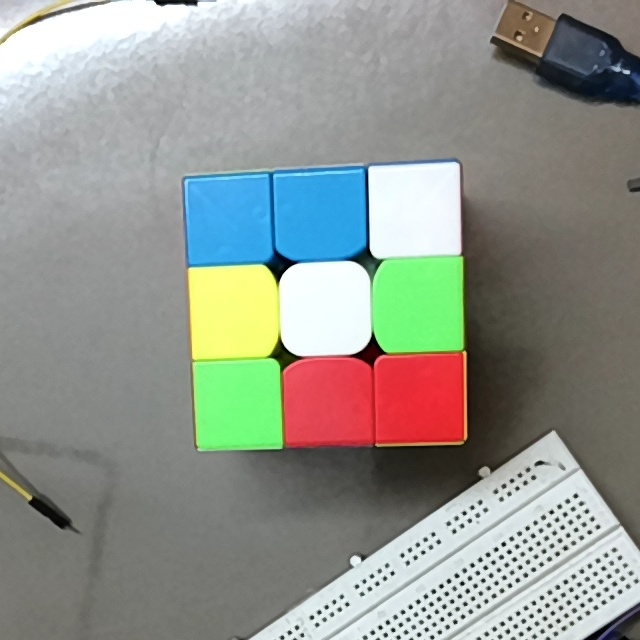tile: (374, 171, 457, 252), (197, 366, 278, 446), (379, 361, 462, 439), (190, 182, 267, 263), (279, 176, 361, 251), (385, 264, 459, 346), (294, 364, 368, 438), (194, 275, 266, 351), (289, 272, 362, 346)
